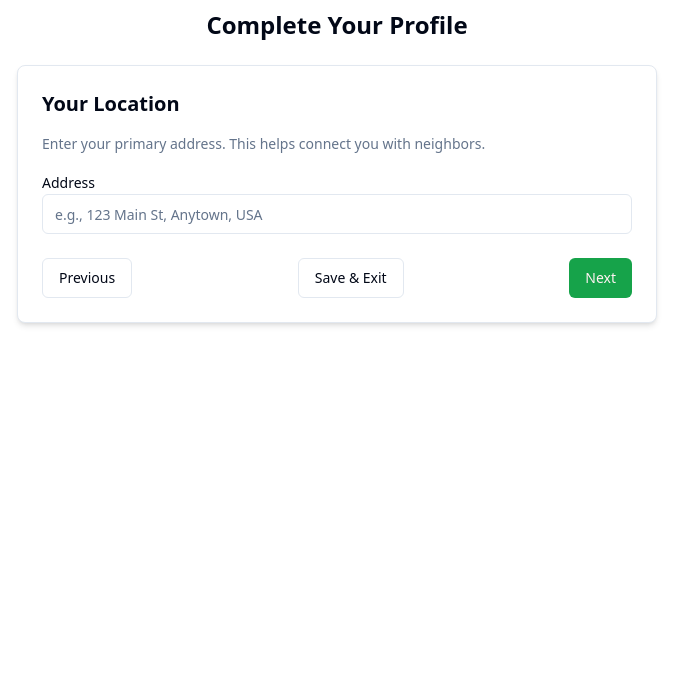
Profile Setup Wizard (MPP Task 2.2.1) › should navigate from Location step to Skills Offered step when clicking Next
Type "123 Main St, Anytown, USA" into the field labelled "Address" at coordinates (337, 214), box [42,194,632,234]
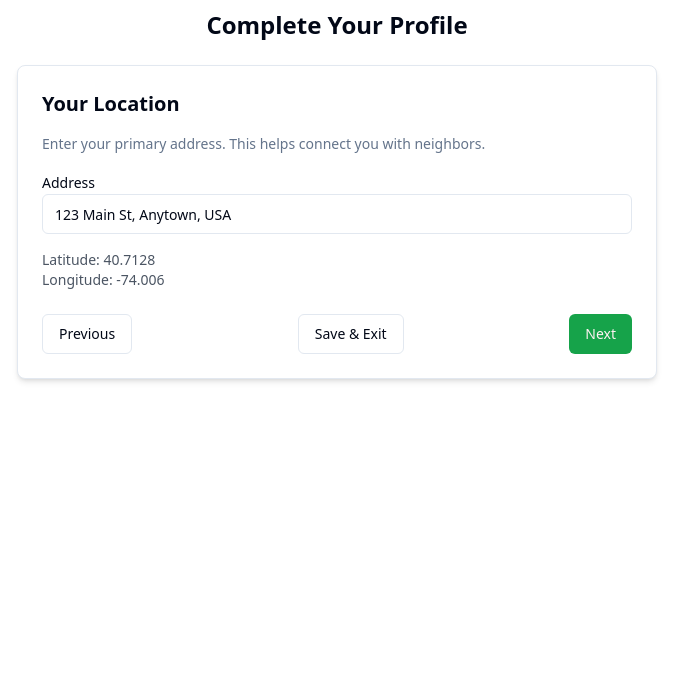
Click the button "Next" at coordinates (601, 334), box [569,314,632,354]
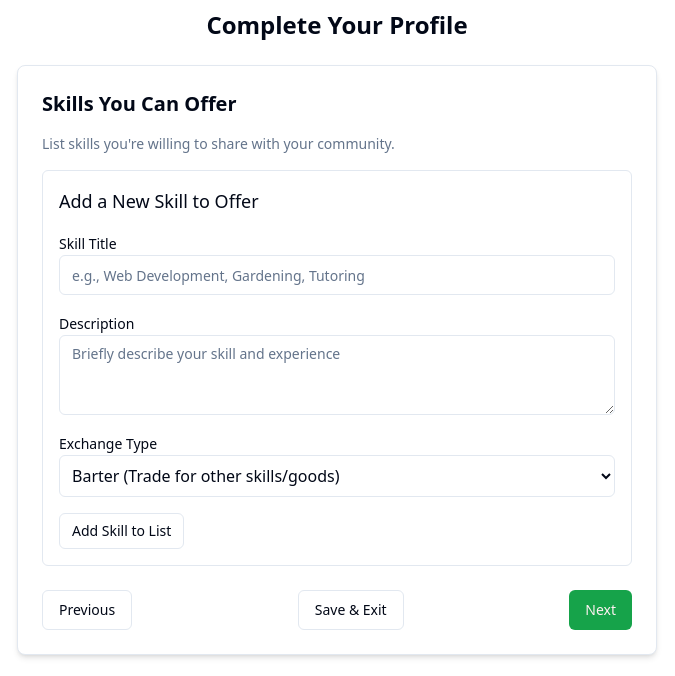
Expected: the heading "Skills You Can Offer" is shown, [42,90,236,117]
